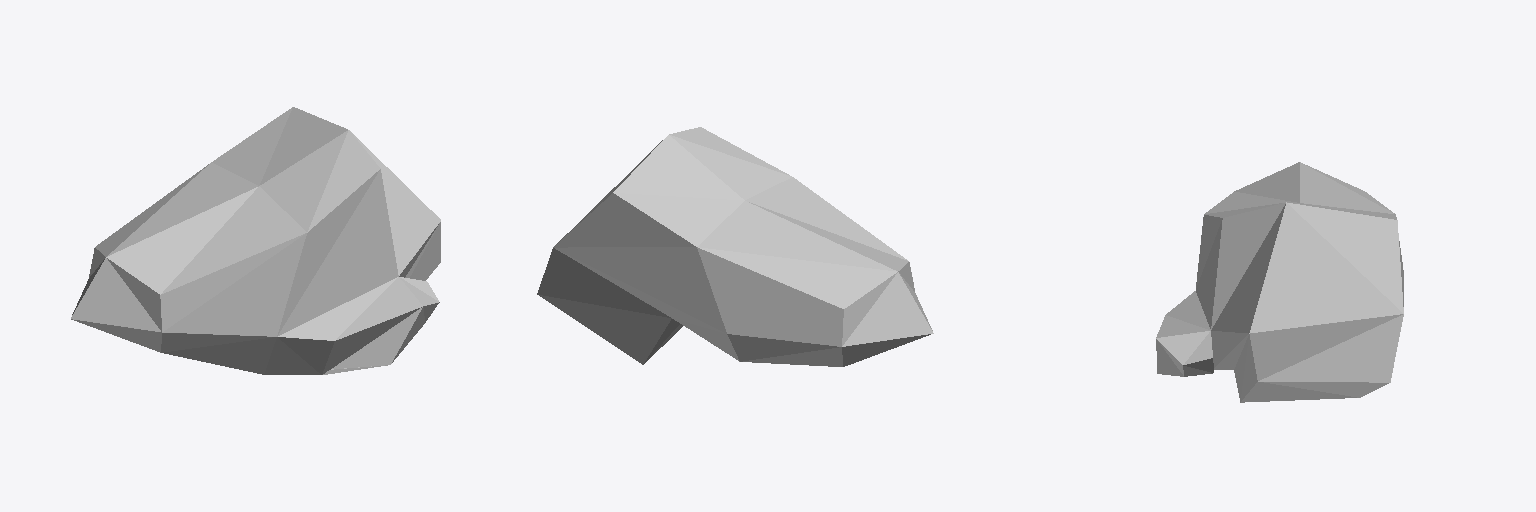
File: HandLeft.obj
3 renders of one model, left to right at view 1: azimuth 30°, elevation 25°; view 2: azimuth 150°, elevation 25°; view 3: azimuth 270°, elevation 25°, orthographic.
Visible parts, largest first — view 1: pCube11; view 2: pCube11; view 3: pCube11.
Part boxes in pixels (left/top/right/bottom): pCube11: left=71, top=107, right=440, bottom=374; pCube11: left=537, top=127, right=933, bottom=366; pCube11: left=1156, top=162, right=1403, bottom=402.
Bounding box in the file's own units: 5.71 × 3.12 × 3.49.